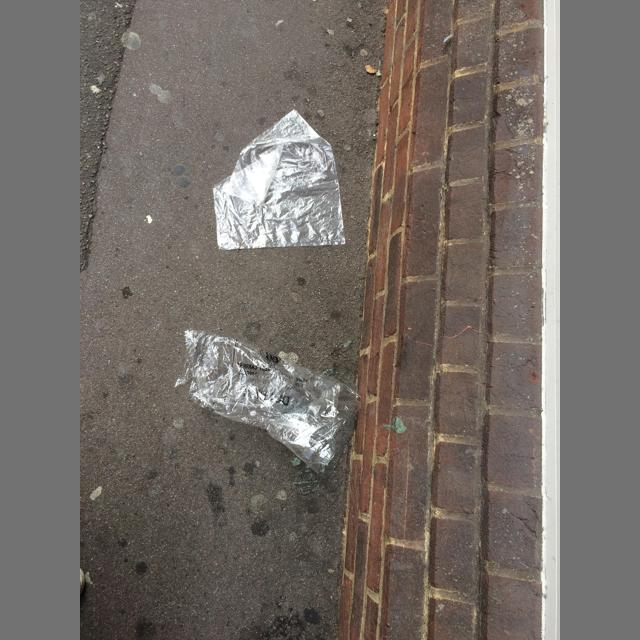litter: (175, 329, 362, 474), (213, 110, 346, 251)
